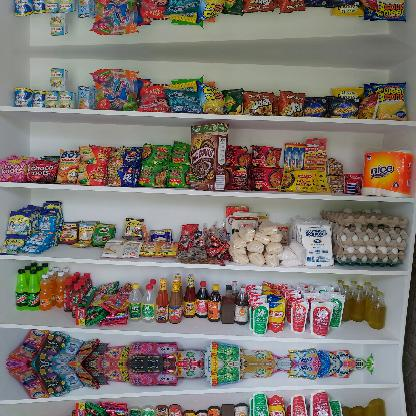Koko-Krunch: (188, 122, 228, 190)
